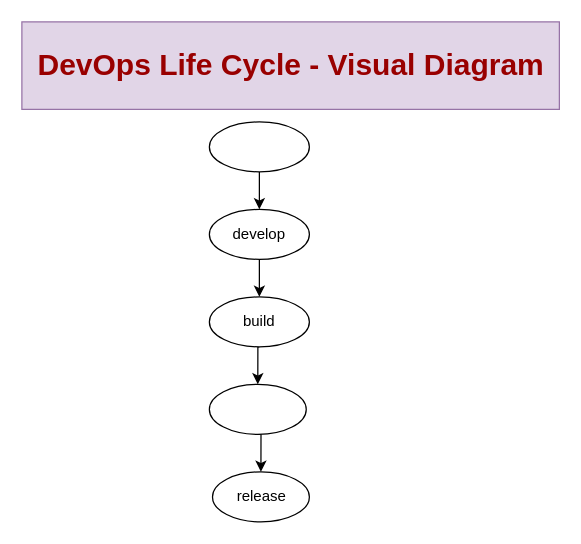
The diagram is 581 pixels wide and 544 high, and some of its shapes have lost their labels. The shapes that lost their labels are listed below. From the top down, each one's centre as x and y in pixels, then its label:
At (258,146): "plan".
At (257,408): "text".
